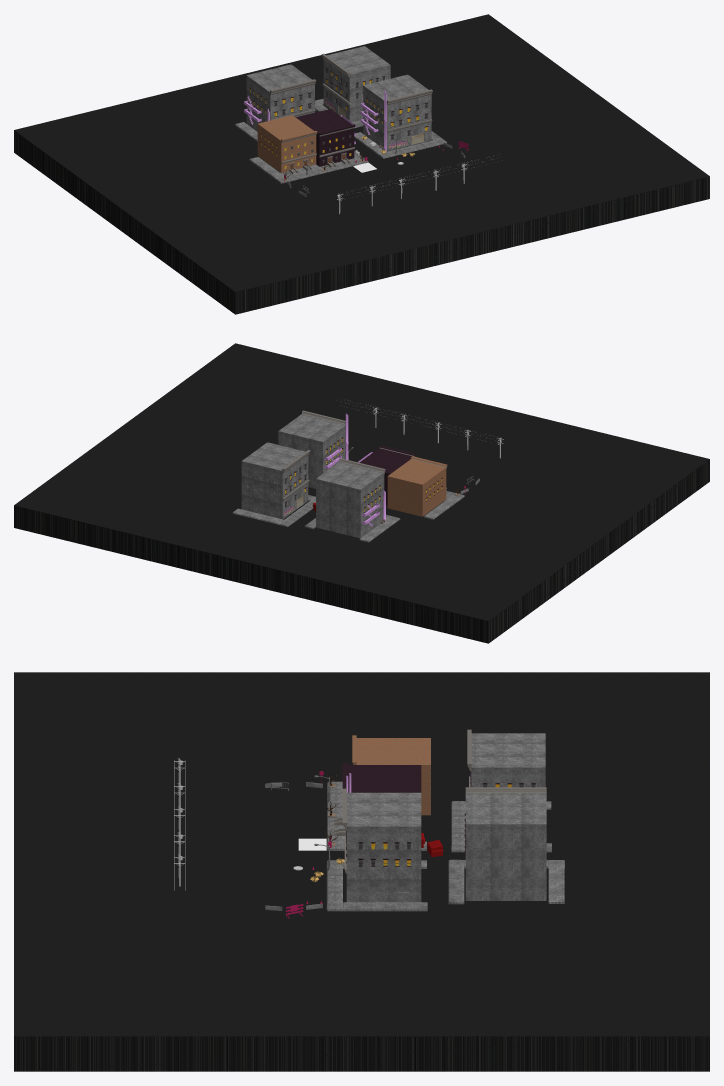
Rendered from TMNT_Prototype_V01.FBX.
3 renders of one model, top to bottom at view 1: azimuth 30°, elevation 25°; view 2: azimuth 150°, elevation 25°; view 3: azimuth 270°, elevation 25°, orthographic. The views are drawn at different scales.
Visible parts, largest first — view 1: Box359, Box357, Box437, Box510, Box214, Box140, SidewalkStraight007, SidewalkStraight025; view 2: Box359, Box510, Box437, Box214, Box357, Box140, SidewalkStraight026; view 3: Box359, Box437, Box357, Box510, Box214, Box140, SidewalkStraight025, SidewalkStraight026, SidewalkStraight007, SidewalkStraight027.
Boxes of the visible parts, box(x1,y1,x2,y2) form: Box359: box(14, 14, 709, 314); Box357: box(363, 74, 431, 151); Box437: box(323, 46, 390, 122); Box510: box(246, 64, 314, 131); Box214: box(257, 115, 316, 172); Box140: box(296, 109, 354, 166); SidewalkStraight007: box(249, 151, 368, 183); SidewalkStraight025: box(354, 131, 447, 158); Box359: box(14, 343, 709, 643); Box510: box(316, 461, 384, 538); Box437: box(241, 442, 308, 519); Box214: box(387, 459, 446, 516); Box357: box(278, 414, 345, 488); Box140: box(359, 448, 411, 505); SidewalkStraight026: box(233, 495, 315, 526); Box359: box(14, 672, 709, 1071); Box437: box(465, 793, 546, 900); Box357: box(346, 792, 421, 902); Box510: box(471, 733, 545, 787); Box214: box(356, 738, 430, 815); Box140: box(347, 765, 421, 792); SidewalkStraight025: box(326, 860, 427, 911); SidewalkStraight026: box(448, 859, 564, 904); SidewalkStraight007: box(327, 781, 426, 850); SidewalkStraight027: box(451, 801, 551, 852).
Size of the model in its own units: 610 by 102 by 493.
